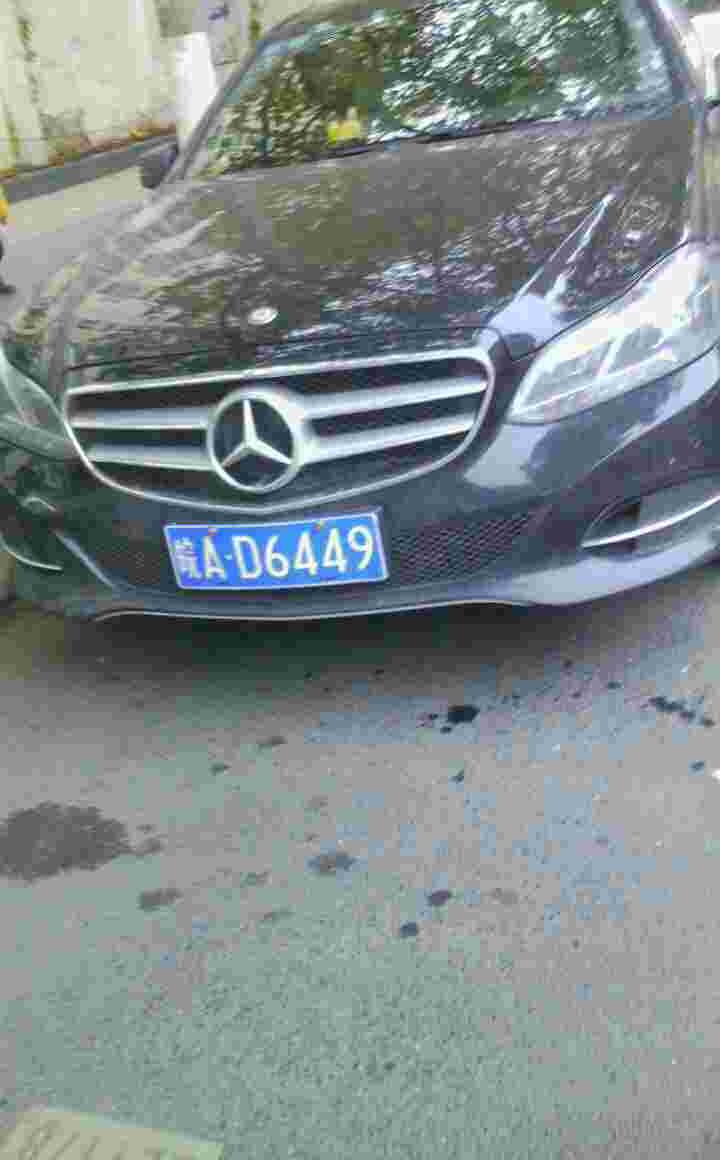plate: (158, 513, 392, 597)
